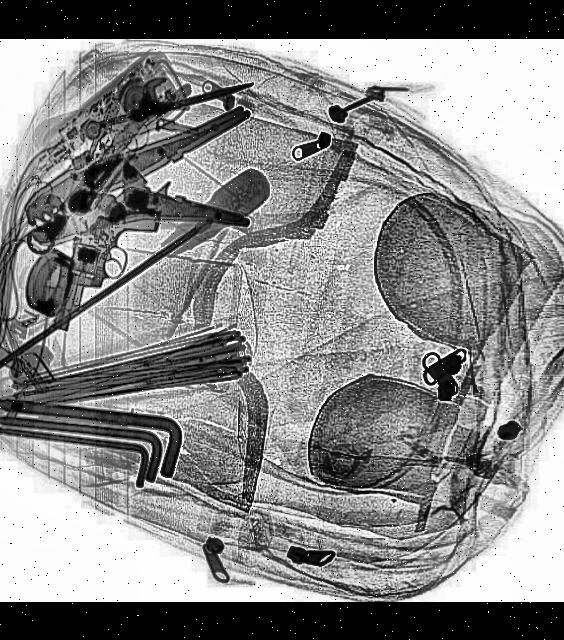Gun: (50, 194, 164, 346)
Wrench: (23, 71, 189, 265)
